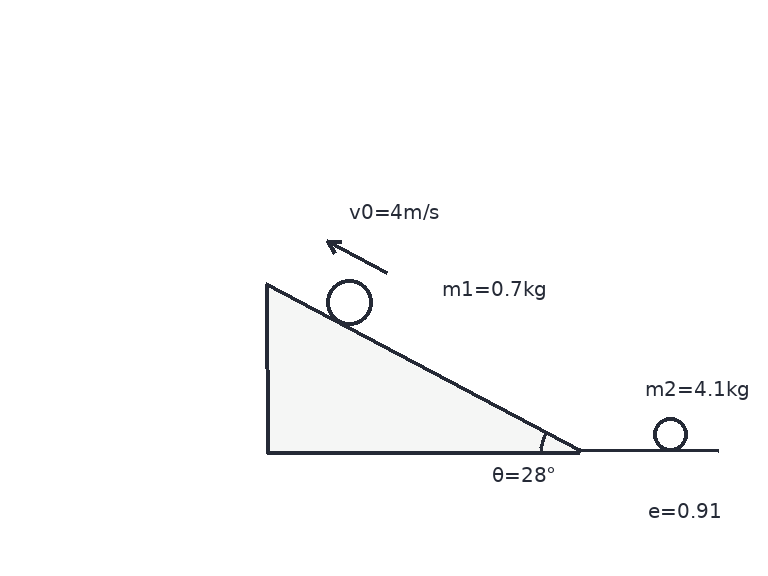ball: (324, 277, 374, 327), (651, 415, 689, 453)
ramp: (265, 282, 583, 453)
